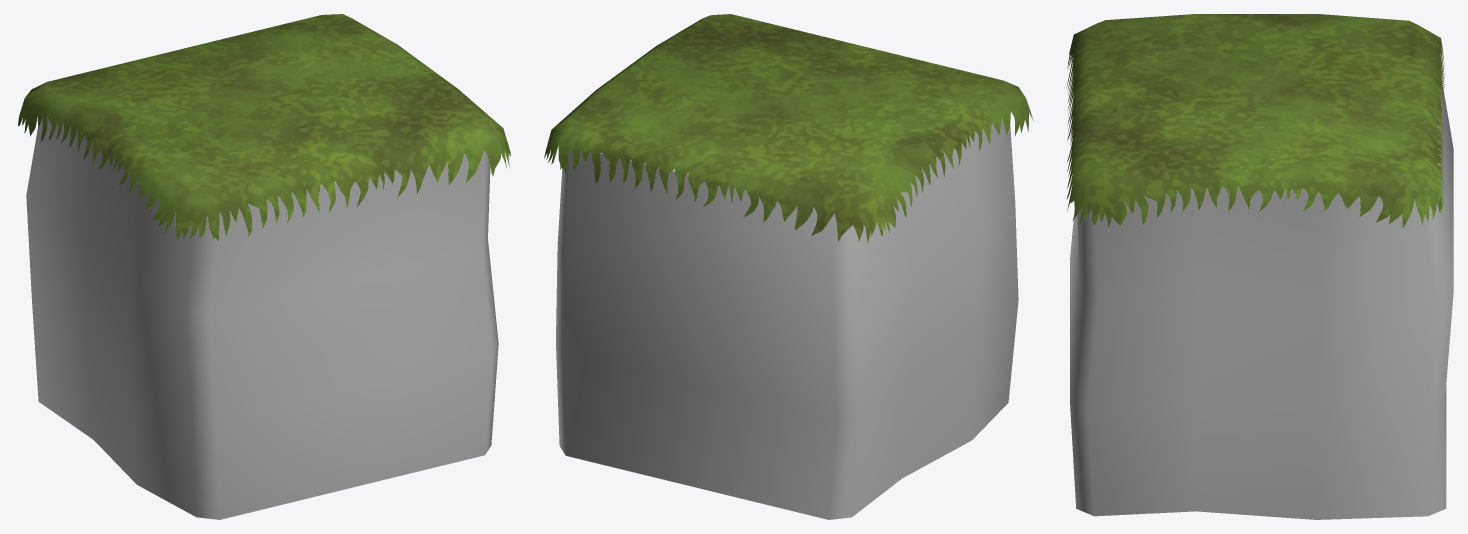
Rendered from 1x1x1_BrownJungleBlock.FBX.
3 renders of one model, left to right at view 1: azimuth 30°, elevation 25°; view 2: azimuth 150°, elevation 25°; view 3: azimuth 270°, elevation 25°, orthographic. The views are drawn at different scales.
Visible parts, largest first — view 1: Ground1x1x1, grassTop1x1; view 2: Ground1x1x1, grassTop1x1; view 3: Ground1x1x1, grassTop1x1.
Boxes of the visible parts, x1,y1,x2,y2 form: Ground1x1x1: [26, 117, 498, 519]; grassTop1x1: [18, 14, 510, 241]; Ground1x1x1: [556, 119, 1018, 519]; grassTop1x1: [544, 14, 1033, 243]; Ground1x1x1: [1070, 77, 1453, 519]; grassTop1x1: [1066, 14, 1444, 228].
Bounding box in the file's own units: 228 × 209 × 212.
